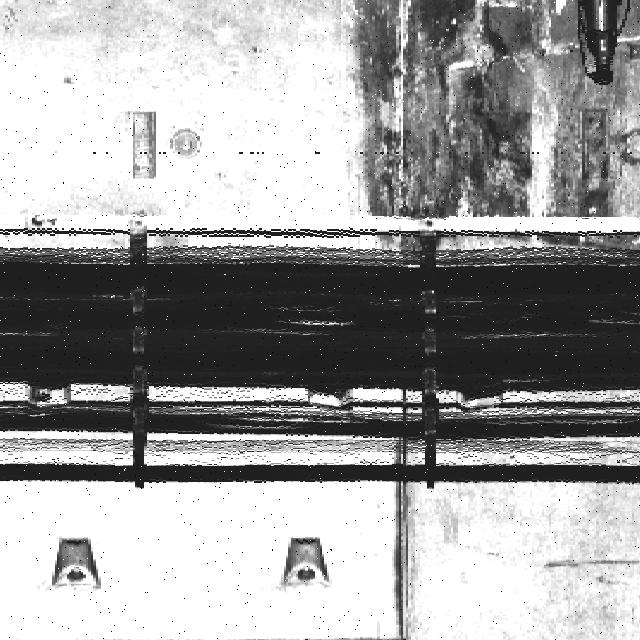leakage: (335, 0, 640, 247)
